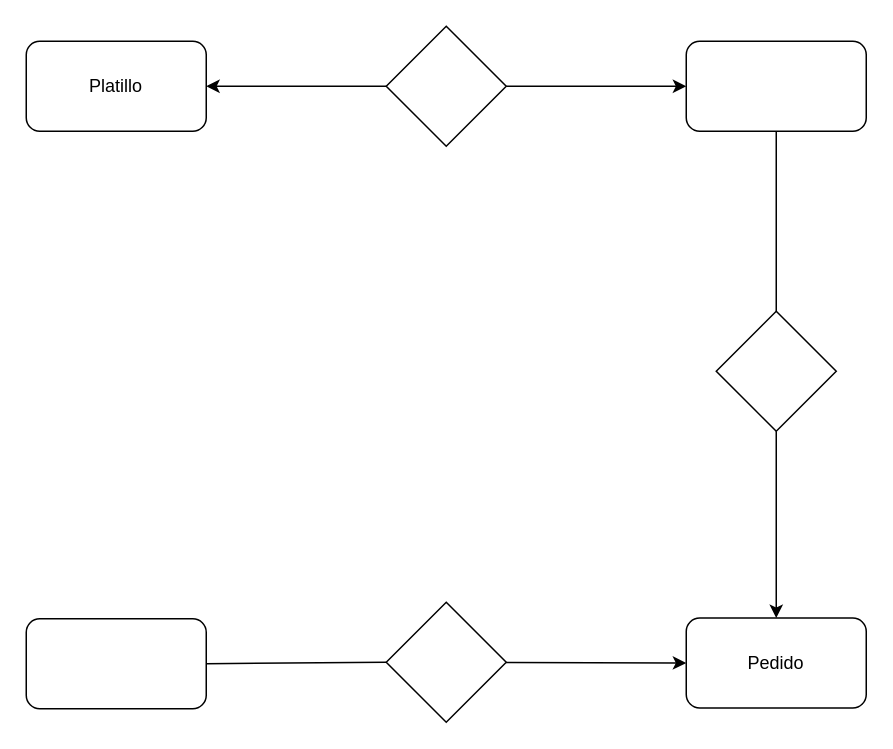
Image size: 893x749. Some labels were removed from this diagram. The shapes that lost their labels are listed below. From the top down, each one's centre as x and y in pixels, then its label:
At [775,85]: "Carrito".
At [115,663]: "Usuario".
